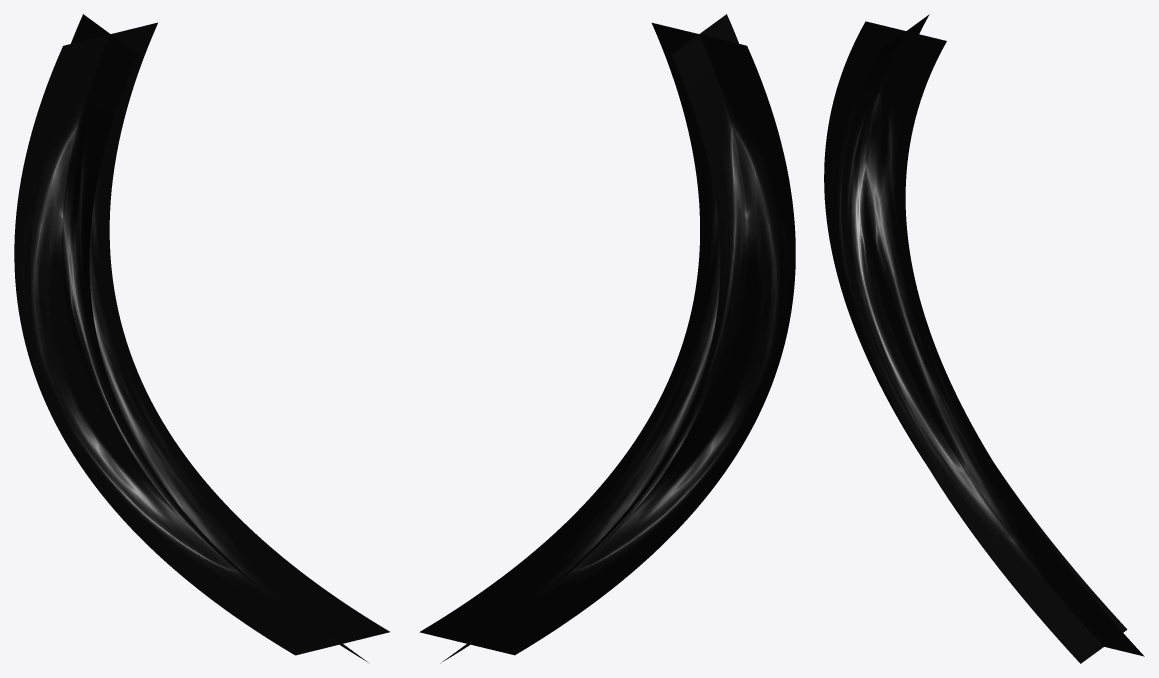
The model's file is 0467_xiantiao_M_02.glb.
3 views of the same model, side by side, from view 1: azimuth 30°, elevation 25°; view 2: azimuth 150°, elevation 25°; view 3: azimuth 330°, elevation 25° (orthographic). The views are drawn at different scales.
Size of the model in its own units: 1.3 by 2.2 by 0.33.
1 material, 1 textured.
